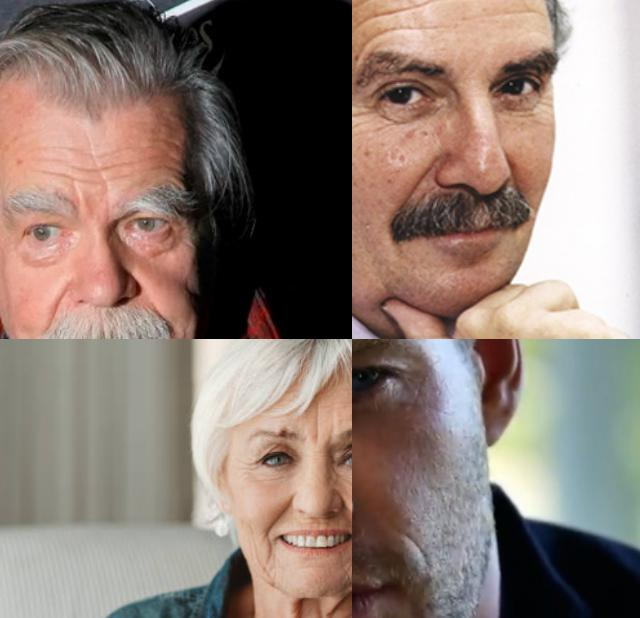crows_feet: (352, 94, 378, 127), (245, 456, 261, 476)
forehead: (352, 0, 405, 44), (52, 162, 96, 188), (502, 0, 546, 21), (104, 154, 132, 180), (164, 158, 186, 190), (414, 0, 458, 7)
frown_line: (312, 406, 322, 446)
gummy_smile: (401, 151, 434, 205), (42, 284, 68, 330), (268, 494, 298, 526), (334, 490, 352, 523)
sad_smile: (260, 537, 276, 563)
